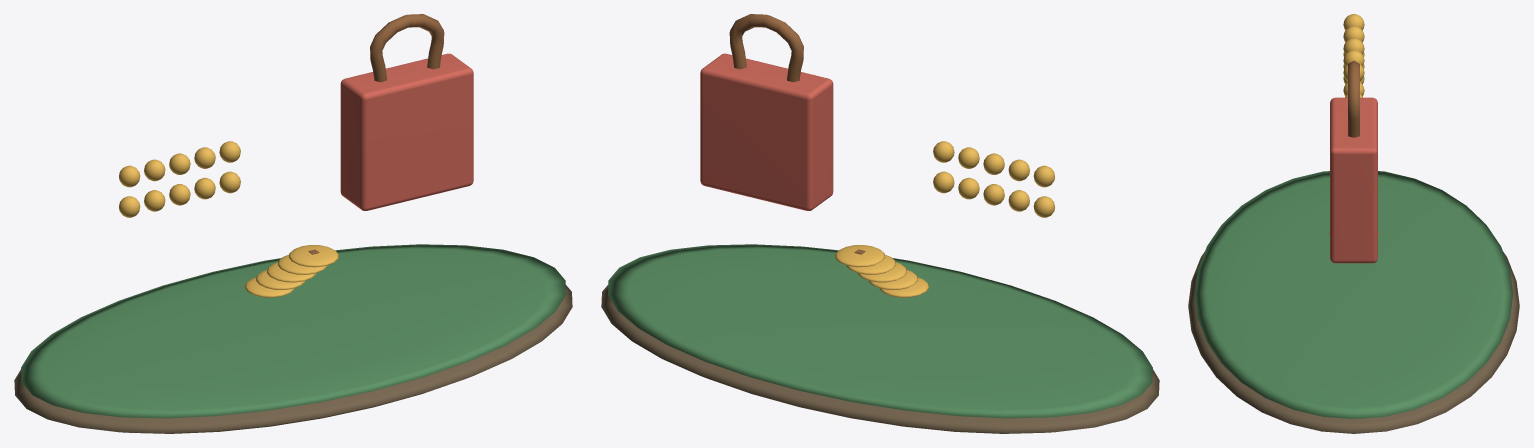
File: complete-first-sell-ten-caps.glb
3 renders of one model, left to right at view 1: azimuth 30°, elevation 25°; view 2: azimuth 150°, elevation 25°; view 3: azimuth 270°, elevation 25°, orthographic.
Visible parts, largest first — view 1: complete-first-sell-ten-caps_surface_01, complete-first-sell-ten-caps_surface_03, complete-first-sell-ten-caps_surface_00, complete-first-sell-ten-caps_surface_02, complete-first-sell-ten-caps_surface_04; view 2: complete-first-sell-ten-caps_surface_01, complete-first-sell-ten-caps_surface_03, complete-first-sell-ten-caps_surface_00, complete-first-sell-ten-caps_surface_02, complete-first-sell-ten-caps_surface_04; view 3: complete-first-sell-ten-caps_surface_01, complete-first-sell-ten-caps_surface_03, complete-first-sell-ten-caps_surface_00, complete-first-sell-ten-caps_surface_02, complete-first-sell-ten-caps_surface_04.
Boxes of the visible parts, x1,y1,x2,y2 form: complete-first-sell-ten-caps_surface_01: (21,244,565,418); complete-first-sell-ten-caps_surface_03: (340,53,473,210); complete-first-sell-ten-caps_surface_00: (14,285,572,433); complete-first-sell-ten-caps_surface_02: (119,141,338,297); complete-first-sell-ten-caps_surface_04: (308,14,444,254); complete-first-sell-ten-caps_surface_01: (608,244,1152,418); complete-first-sell-ten-caps_surface_03: (700,53,833,210); complete-first-sell-ten-caps_surface_00: (601,285,1159,433); complete-first-sell-ten-caps_surface_02: (835,141,1054,297); complete-first-sell-ten-caps_surface_04: (729,14,865,254); complete-first-sell-ten-caps_surface_01: (1195,171,1512,418); complete-first-sell-ten-caps_surface_03: (1330,97,1377,263); complete-first-sell-ten-caps_surface_00: (1188,252,1519,433); complete-first-sell-ten-caps_surface_02: (1329,14,1378,236); complete-first-sell-ten-caps_surface_04: (1348,60,1359,137).
Bounding box in the file's own units: 4.56 × 2.59 × 2.5.
